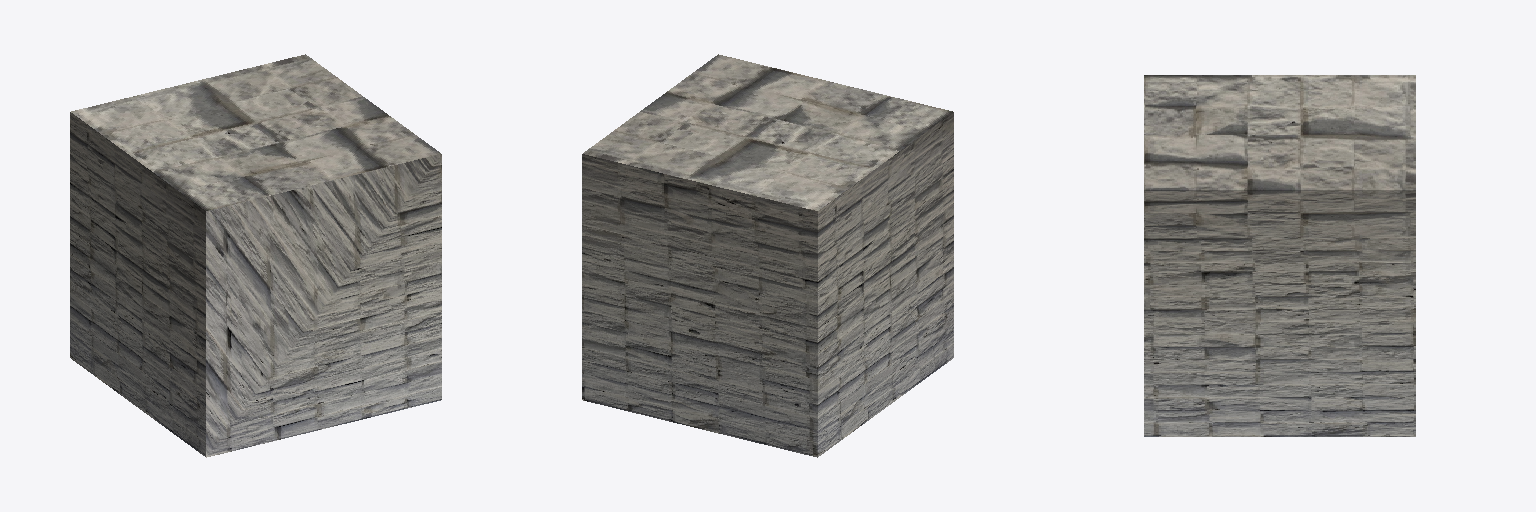
3 renders of one model, left to right at view 1: azimuth 30°, elevation 25°; view 2: azimuth 150°, elevation 25°; view 3: azimuth 270°, elevation 25°, orthographic.
Parts seen in each view (by area): view 1: Cube; view 2: Cube; view 3: Cube.
Boxes of the visible parts, <box> form: Cube: <box>70,54,441,457</box>; Cube: <box>582,54,953,457</box>; Cube: <box>1144,75,1415,436</box>.
Bounding box in the file's own units: 1 × 1 × 1.
Materials: 1 (1 with a texture image).